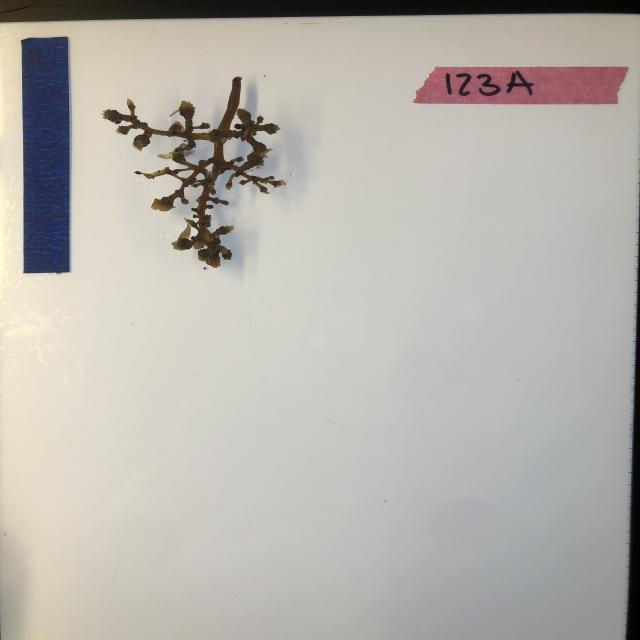index: (413, 64, 629, 106)
measure_label: (18, 34, 72, 275)
rachis_cluster: (98, 74, 290, 272)
